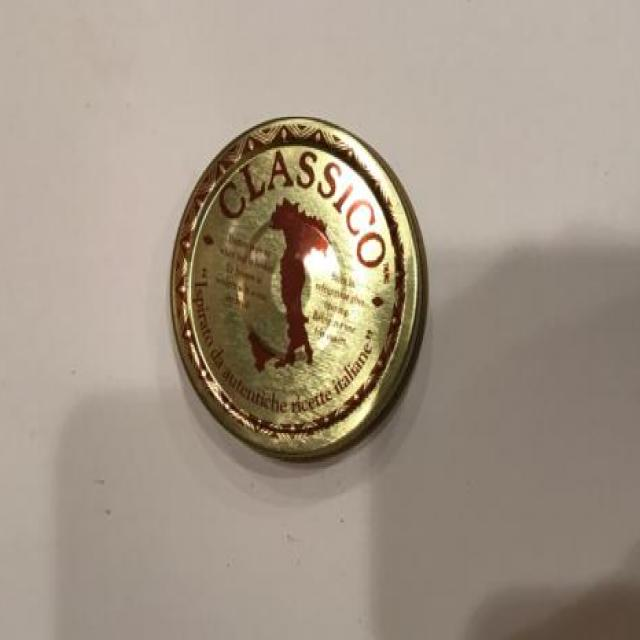metal: (172, 117, 428, 460)
